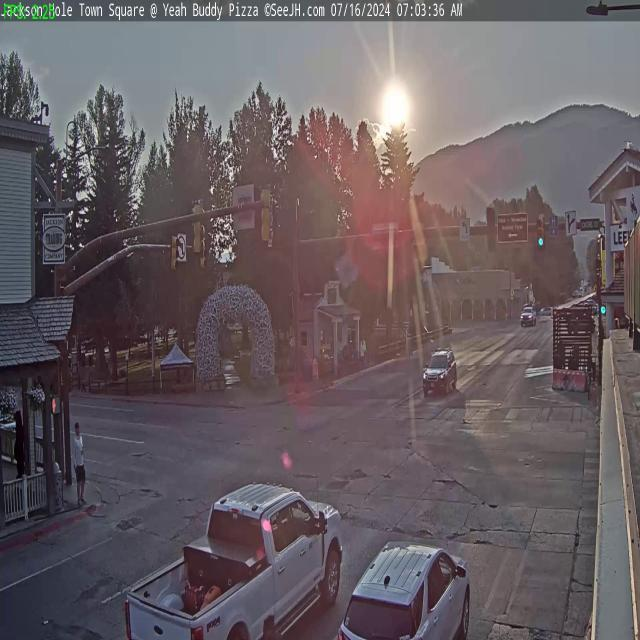person: (71, 416, 88, 512)
pickup: (119, 474, 341, 640)
suv: (331, 534, 472, 640), (422, 346, 458, 396), (520, 304, 536, 326)
traffic light: (260, 185, 274, 245), (190, 199, 203, 254), (486, 207, 496, 252), (536, 214, 546, 249), (170, 234, 178, 274)
